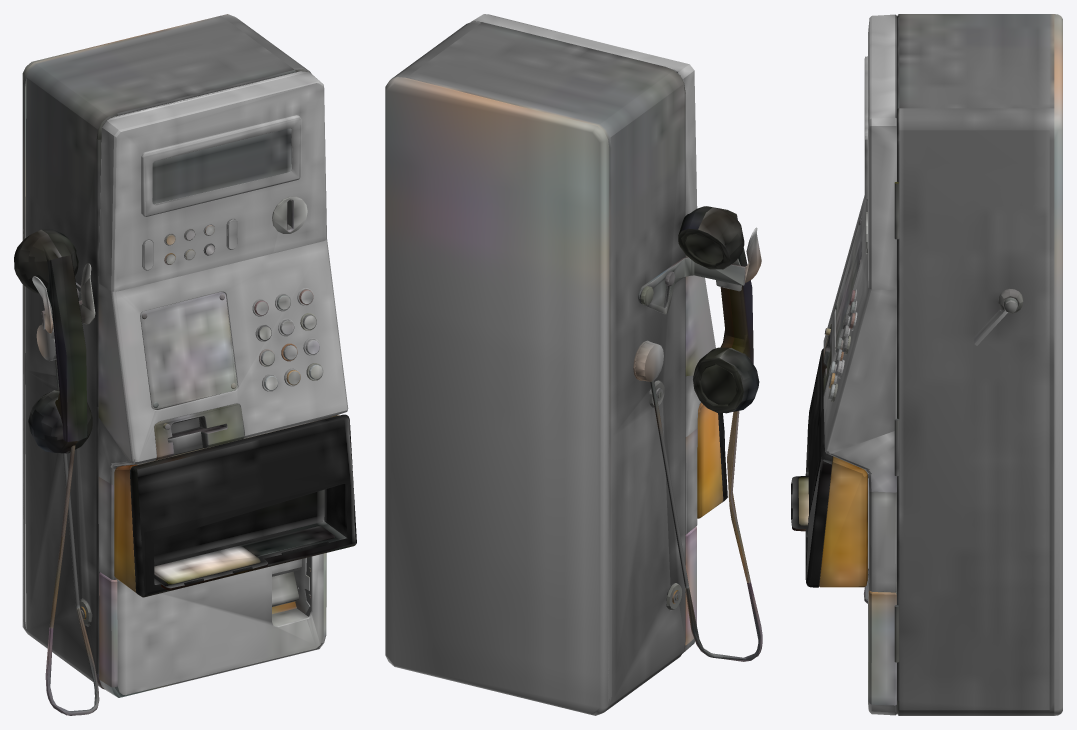
Rendered from korean-public-payphone-01.glb.
3 views of the same model, side by side, from view 1: azimuth 30°, elevation 25°; view 2: azimuth 150°, elevation 25°; view 3: azimuth 270°, elevation 25° (orthographic). The views are drawn at different scales.
Visible parts, largest first — view 1: korean_public_payphone_01; view 2: korean_public_payphone_01; view 3: korean_public_payphone_01.
Part boxes in pixels (x1,y1,x2,y2): korean_public_payphone_01: (14,14,356,715); korean_public_payphone_01: (385,14,762,715); korean_public_payphone_01: (791,14,1062,715).
Bounding box in the file's own units: 0.4004 × 0.7397 × 0.3005.
Materials: 1 (1 with a texture image).
